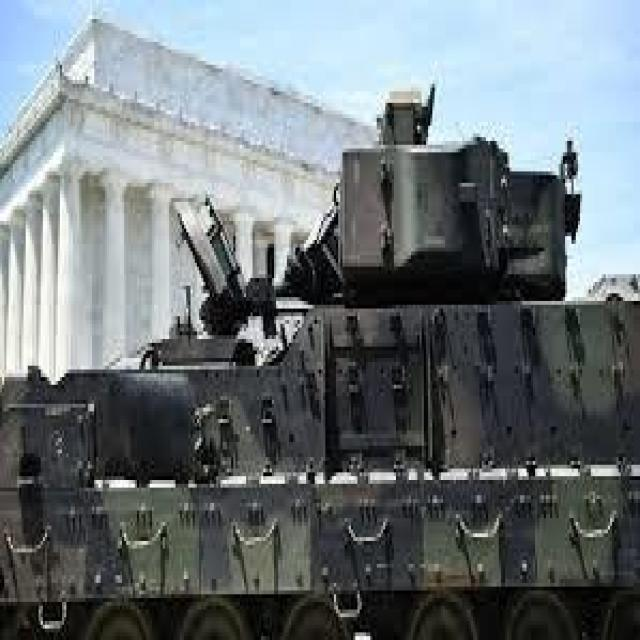MIL_MBT: (24, 70, 621, 615)
